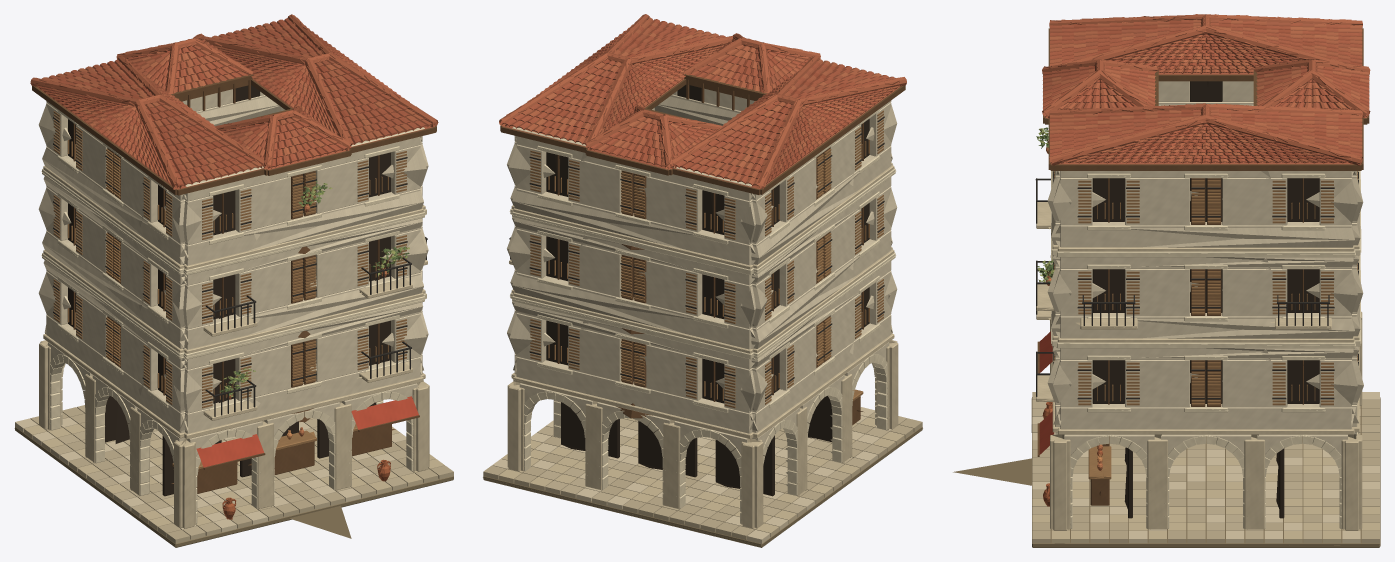
File: insula.glb
3 views of the same model, side by side, from view 1: azimuth 30°, elevation 25°; view 2: azimuth 150°, elevation 25°; view 3: azimuth 270°, elevation 25° (orthographic). The views are drawn at different scales.
Parts seen in each view (by area): view 1: Limewash.002, Limewash.003, Travertine.002, Limestone_trim.002, Tile_0.002, Oak_edge.002, Tile_1.002, Oak.002, Interior_shadow.002, Paving_1.002, Tile_5.002, Paving_3.002 (+14 smaller); view 2: Limewash.002, Limewash.003, Limestone_trim.002, Travertine.002, Tile_0.002, Oak_edge.002, Tile_1.002, Interior_shadow.002, Oak.002, Paving_3.002, Paving_1.002, Tile_5.002 (+11 smaller); view 3: Limewash.002, Tile_0.002, Tile_1.002, Limewash.003, Travertine.002, Limestone_trim.002, Oak_edge.002, Interior_shadow.002, Oak.002, Paving_0.002, Paving_1.002, Paving_3.002 (+12 smaller).
Boxes of the visible parts, bbox=[...] form: Limewash.002: bbox=[46, 89, 422, 455]; Limewash.003: bbox=[38, 96, 428, 454]; Travertine.002: bbox=[39, 155, 429, 528]; Limestone_trim.002: bbox=[42, 28, 426, 523]; Tile_0.002: bbox=[37, 18, 427, 187]; Oak_edge.002: bbox=[53, 111, 406, 469]; Tile_1.002: bbox=[30, 14, 438, 189]; Oak.002: bbox=[32, 74, 436, 493]; Interior_shadow.002: bbox=[68, 85, 390, 496]; Paving_1.002: bbox=[30, 407, 453, 544]; Tile_5.002: bbox=[41, 23, 423, 177]; Paving_3.002: bbox=[50, 405, 413, 539]; Limewash.002: bbox=[514, 88, 891, 454]; Limewash.003: bbox=[507, 96, 897, 444]; Limestone_trim.002: bbox=[510, 109, 895, 523]; Travertine.002: bbox=[507, 155, 898, 528]; Tile_0.002: bbox=[501, 19, 891, 183]; Oak_edge.002: bbox=[530, 110, 883, 408]; Tile_1.002: bbox=[499, 14, 906, 189]; Interior_shadow.002: bbox=[546, 85, 869, 496]; Oak.002: bbox=[500, 74, 905, 424]; Paving_3.002: bbox=[531, 412, 907, 528]; Paving_1.002: bbox=[483, 418, 922, 539]; Tile_5.002: bbox=[524, 20, 892, 187]; Limewash.002: bbox=[1055, 81, 1357, 455]; Tile_0.002: bbox=[1042, 20, 1369, 163]; Tile_1.002: bbox=[1042, 14, 1370, 165]; Limewash.003: bbox=[1047, 104, 1363, 453]; Travertine.002: bbox=[1036, 171, 1362, 530]; Limestone_trim.002: bbox=[1051, 171, 1360, 528]; Oak_edge.002: bbox=[1054, 171, 1357, 479]; Interior_shadow.002: bbox=[1092, 81, 1319, 518]; Oak.002: bbox=[1037, 28, 1369, 505]; Paving_0.002: bbox=[1032, 449, 1379, 543]; Paving_1.002: bbox=[1032, 392, 1379, 543]; Paving_3.002: bbox=[1032, 400, 1379, 543].
Bounding box in the file's own units: 9.21 × 11.95 × 11.3.
Materials: 26 (8 with a texture image).
